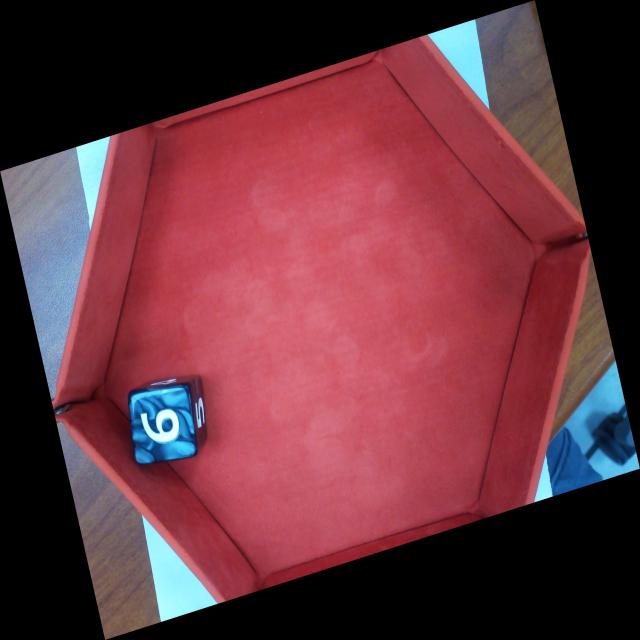dice: (127, 380, 201, 470)
